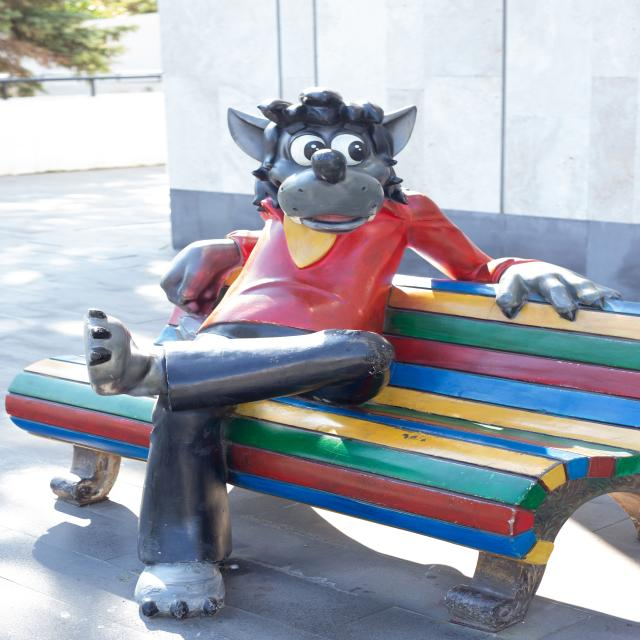volk: (13, 91, 640, 625)
